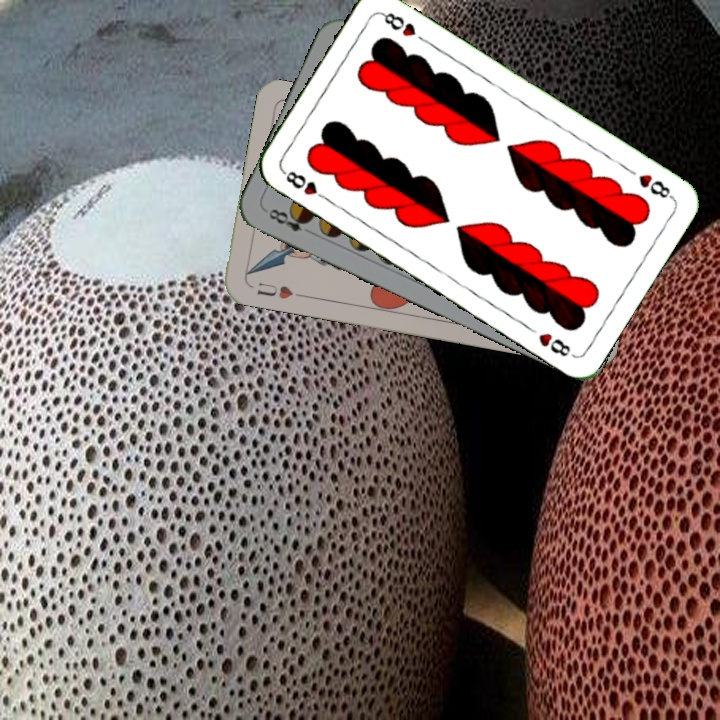E8: (264, 204, 317, 238)
H8: (278, 166, 332, 204), (634, 170, 676, 201)
HU: (253, 278, 296, 302)
